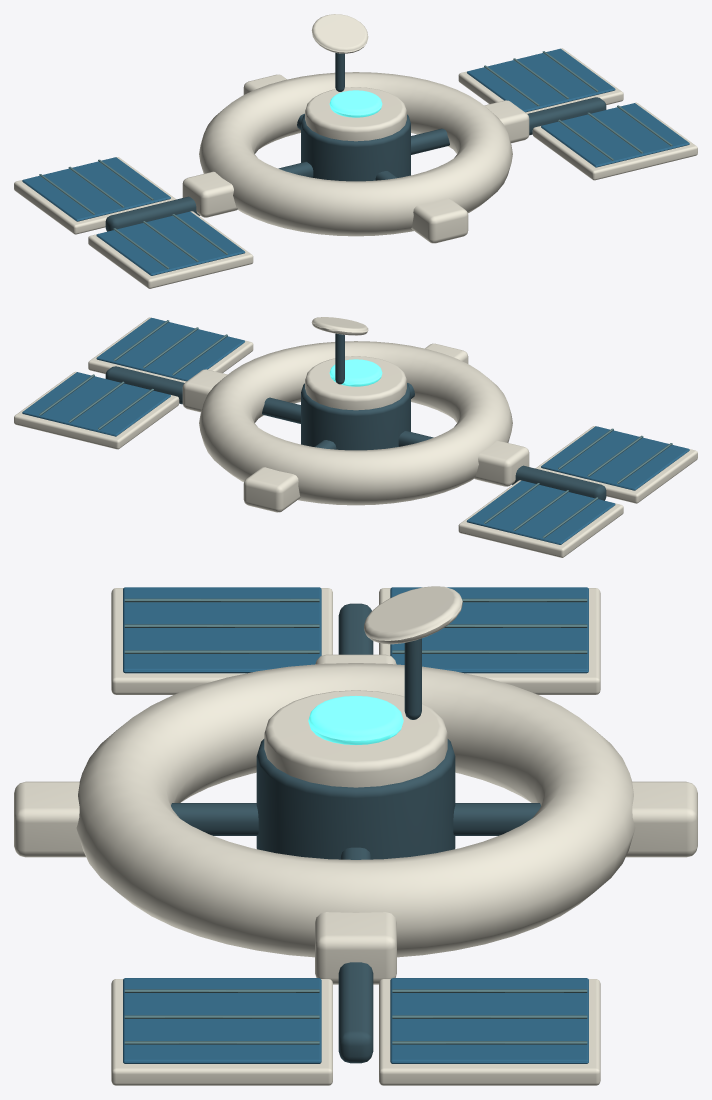
The model's file is auto_explore.glb.
3 renders of one model, top to bottom at view 1: azimuth 30°, elevation 25°; view 2: azimuth 150°, elevation 25°; view 3: azimuth 270°, elevation 25°, orthographic. The views are drawn at different scales.
Parts seen in each view (by area): view 1: Architecture, Hardware; view 2: Architecture, Hardware; view 3: Architecture, Hardware.
Part boxes in pixels (x1,y1,x2,y2): Architecture: (14,48,697,288); Hardware: (311,14,368,91); Architecture: (14,317,697,557); Hardware: (311,317,368,384); Architecture: (14,587,697,1085); Hardware: (364,586,462,719).
Bounding box in the file's own units: 5.99 × 1.49 × 3.58.
